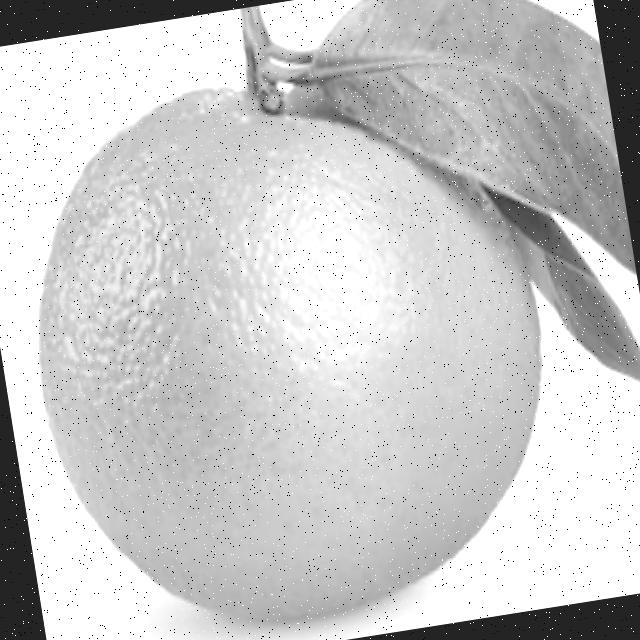orange: (0, 34, 582, 640)
